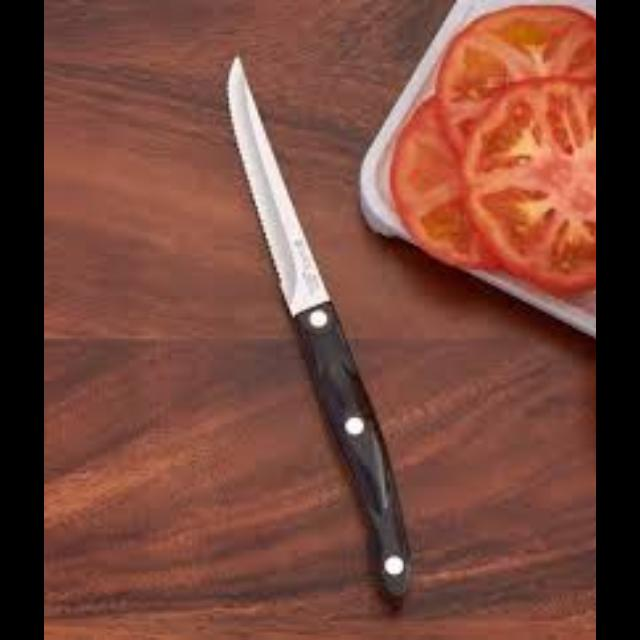knife: (225, 51, 412, 603)
